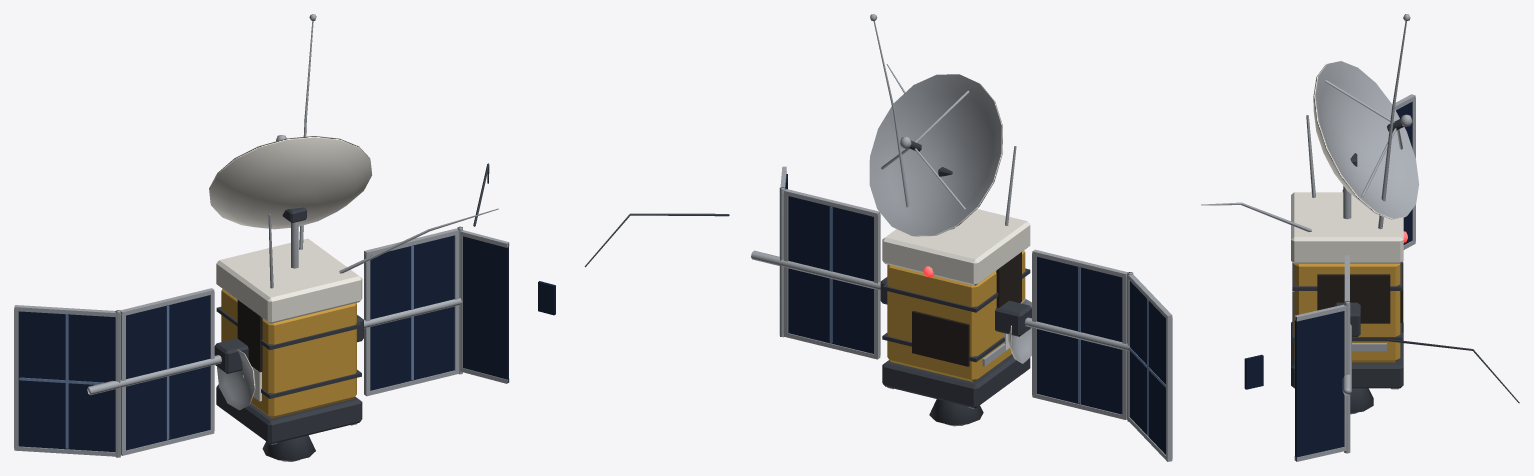
The model's file is satellite.glb.
3 renders of one model, left to right at view 1: azimuth 30°, elevation 25°; view 2: azimuth 150°, elevation 25°; view 3: azimuth 270°, elevation 25°, orthographic. The views are drawn at different scales.
Parts seen in each view (by area): view 1: Body; view 2: Body; view 3: Body.
Part boxes in pixels (bbox=[...]): Body: bbox=[14, 14, 555, 461]; Body: bbox=[584, 14, 1172, 461]; Body: bbox=[1201, 14, 1519, 461].
Size of the model in its own units: 9.48 by 7.02 by 4.81.
